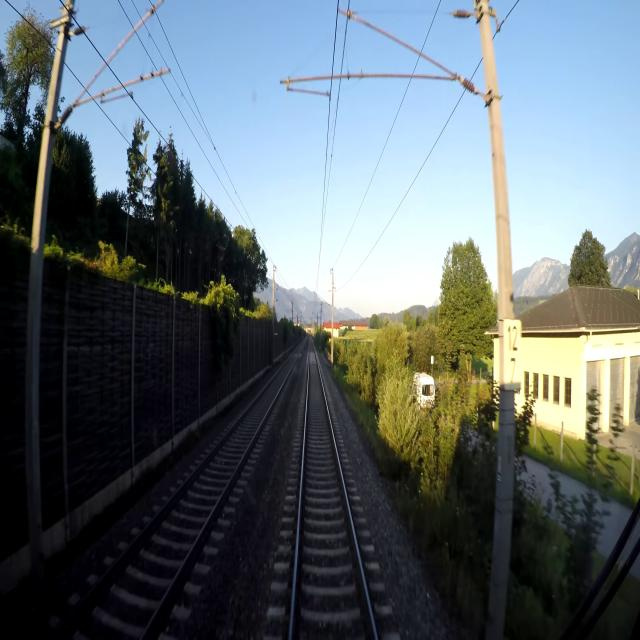rail-track: (52, 350, 298, 639), (293, 344, 373, 639)
